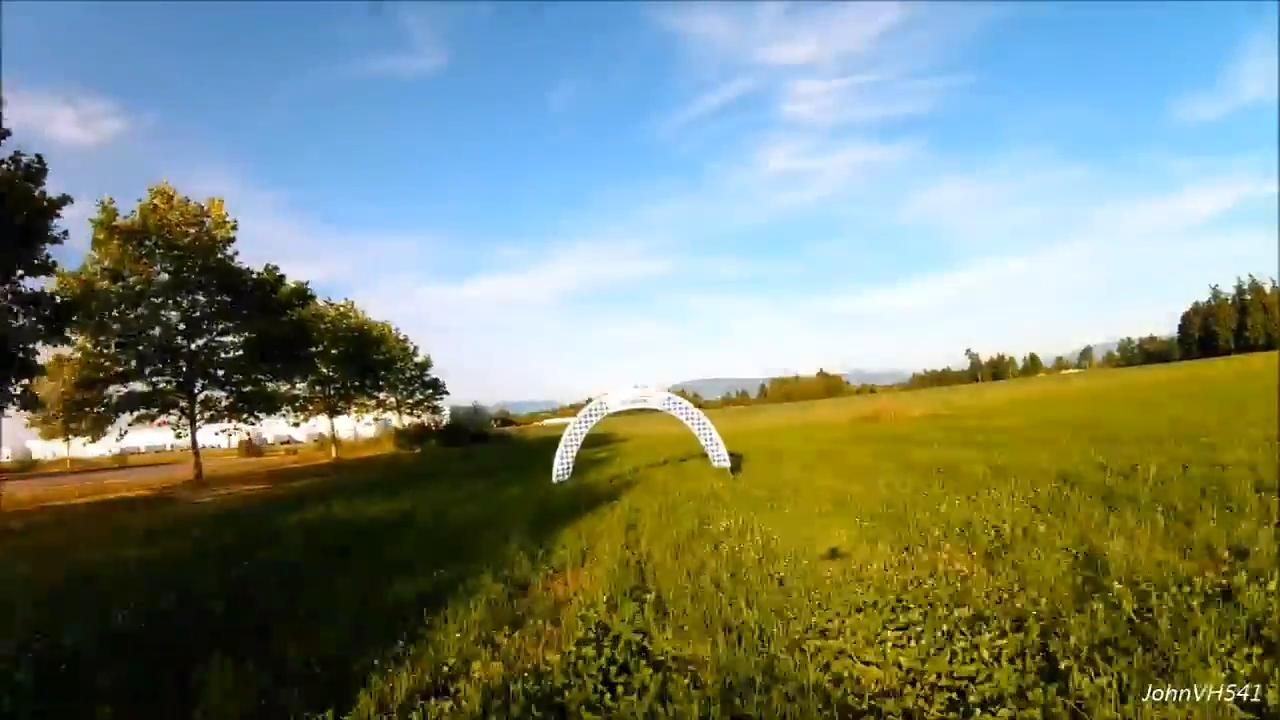gate: (549, 388, 733, 484)
